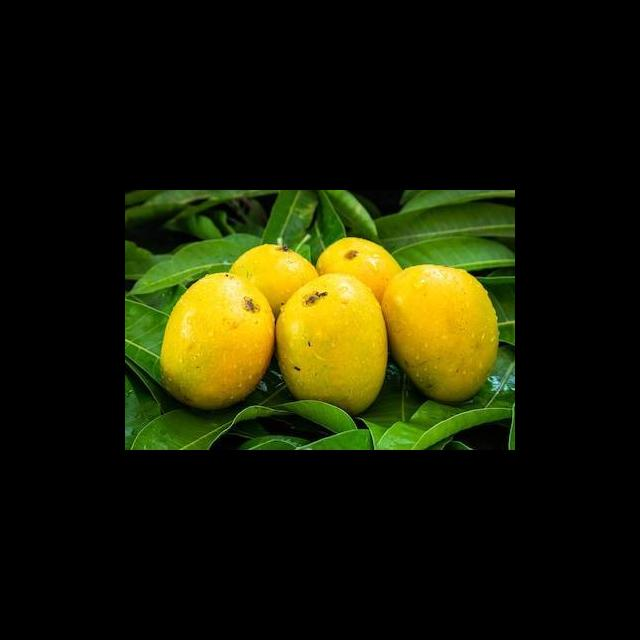mango: (382, 265, 498, 402), (161, 273, 275, 410), (276, 274, 387, 414), (229, 244, 318, 317), (316, 237, 402, 301)
